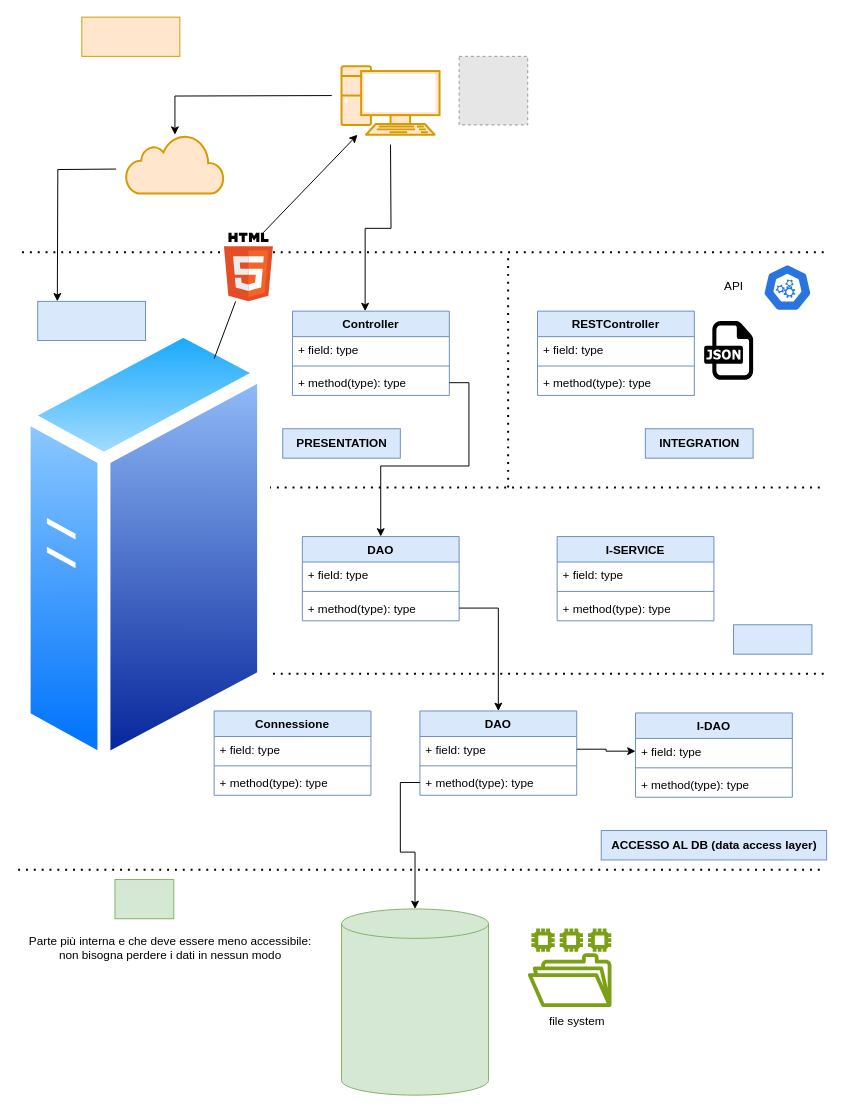
Image size: 844x1112. Some labels were removed from this diagram. Grey dashed boxes stand in for pictures. Here are the shapes that lost their labels. From the top down, the centre of each, then its label:
At pixel 130 36: "CLIENT".
At pixel 91 320: "SERVER".
At pixel 772 639: "SERVICE".
At pixel 144 899: "DB".
At pixel 415 1001: "RDBMS".
